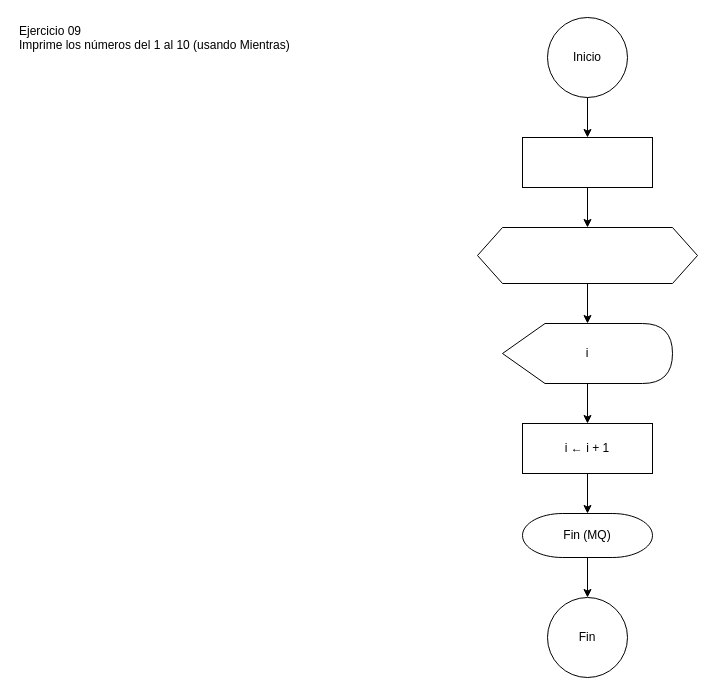
The diagram is 715 pixels wide and 695 high, and some of its shapes have lost their labels. Here are the shapes that lost their labels. From the top down, the centre of each, then its label:
At point 587,162: "i ← 1".
At point 587,255: "MQ i <= 10".
